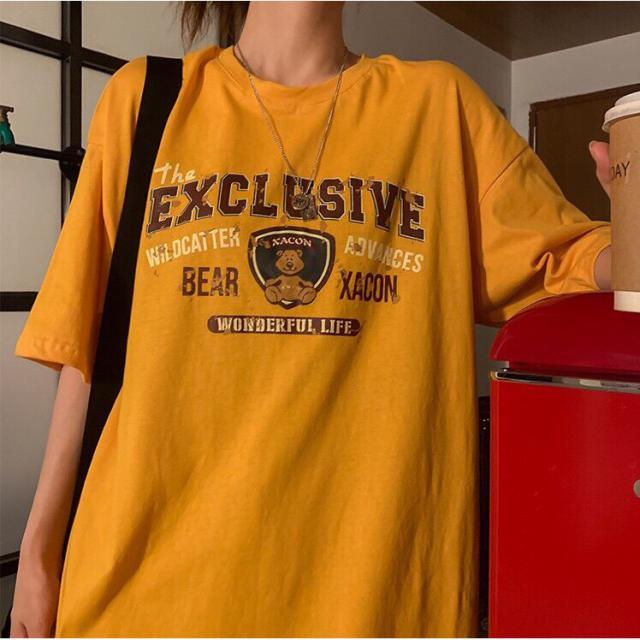Shirt: (11, 48, 635, 640)
